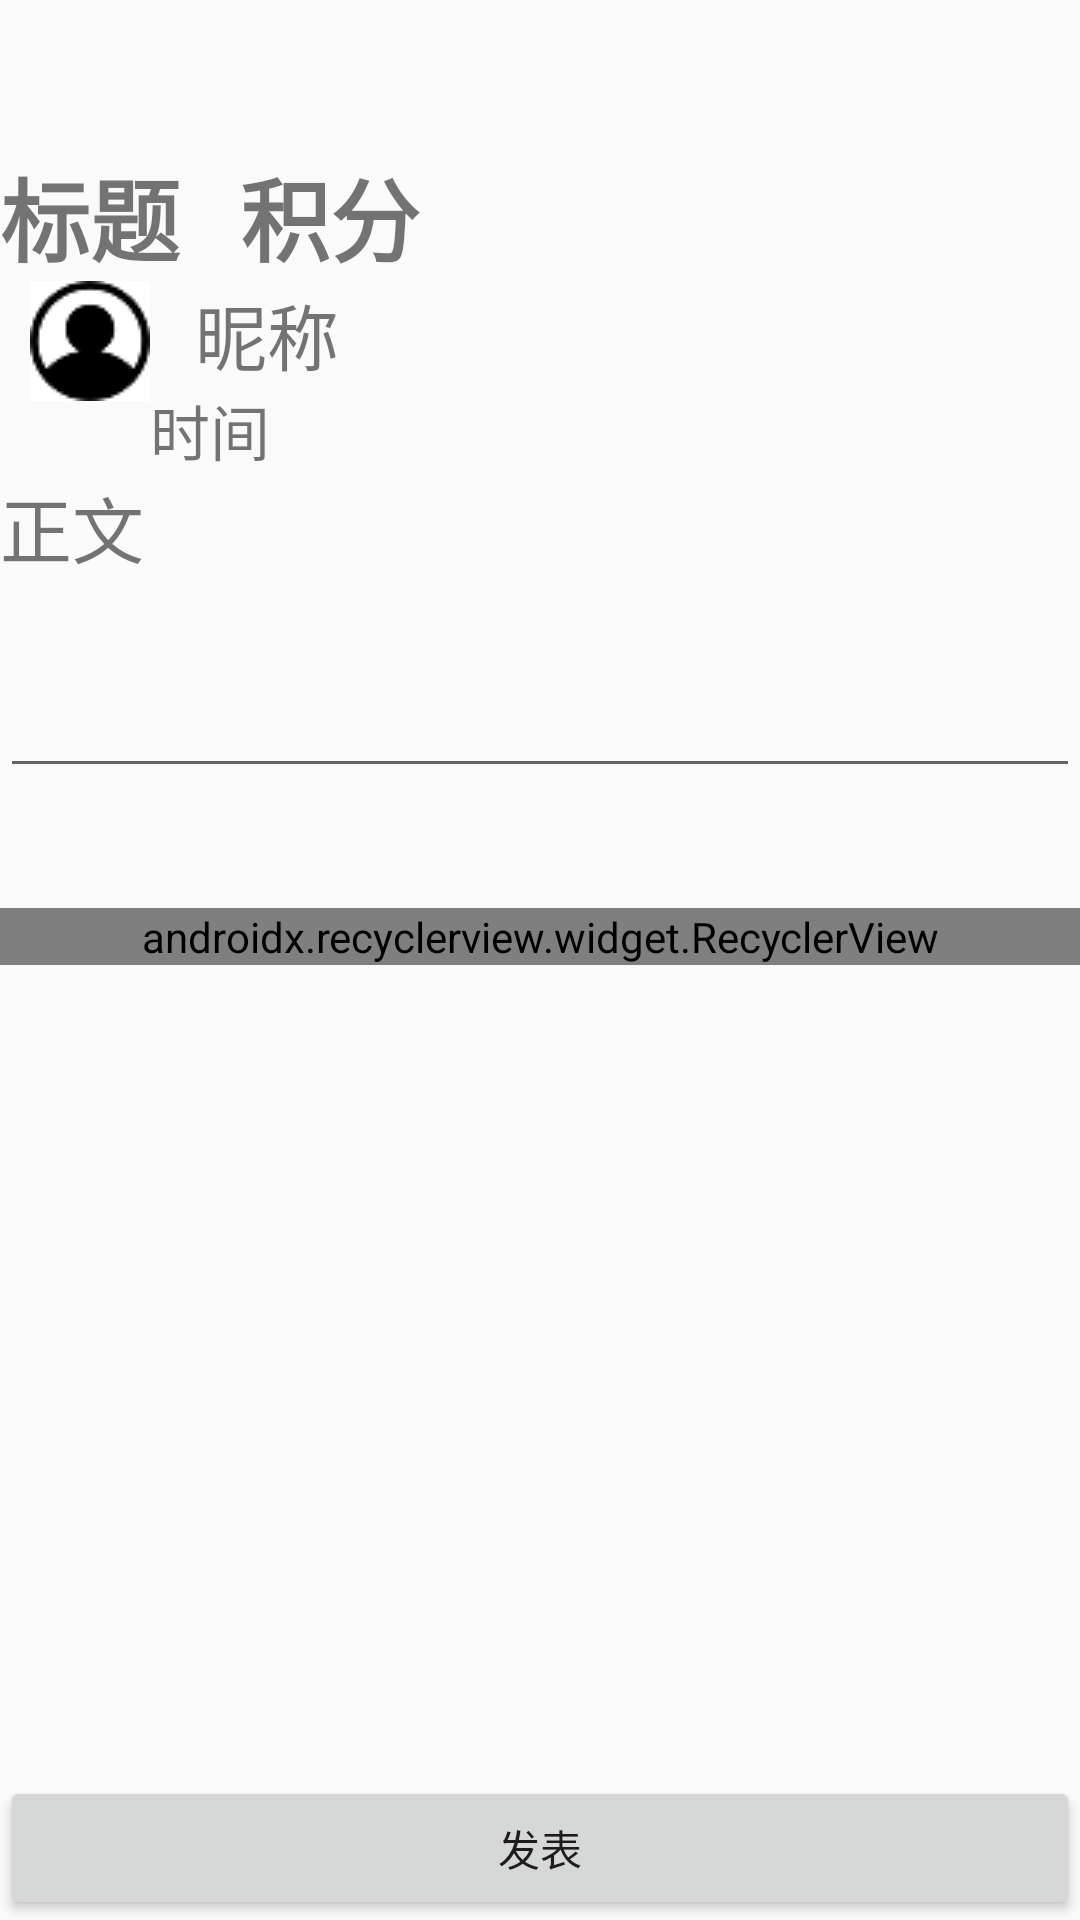

Screen size 1080 x 1920. Icon name, then its center in pixels as (x=x, y=y):
defaulthead: (x=90, y=341)
